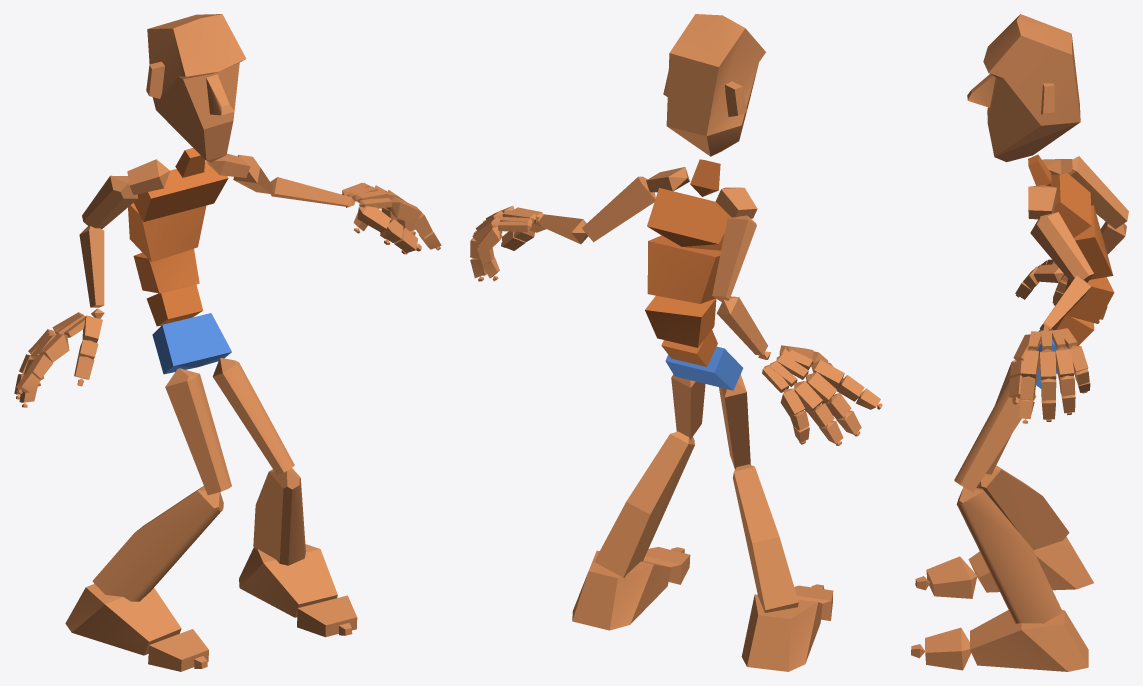
File: prueba118.obj
The picture shows the model from 3 angles, left to right: view 1: azimuth 30°, elevation 25°; view 2: azimuth 150°, elevation 25°; view 3: azimuth 270°, elevation 25°; orthographic projection. The views are drawn at different scales.
Parts seen in each view (by area): view 1: BOPED_Head, BOPED_R_leg, BOPED_R_foot, BOPED_R_foot01, BOPED_L_leg, BOPED_R_legup, Bone01, BOPED_L_legup, Bone04, Bone05, Bone03, BOPED_R_foot_toe01 (+9 smaller); view 2: BOPED_Head, BOPED_L_leg, BOPED_R_leg, BOPED_R_foot01, BOPED_R_foot, Bone04, Bone05, Bone03, BOPED_R_arm_upper, BOPED_L_arm_upper, BOPED_R_legup, Bone01 (+9 smaller); view 3: BOPED_Head, BOPED_L_leg, BOPED_R_foot01, BOPED_R_leg, BOPED_L_legup, BOPED_R_foot, BOPED_L_arm_upper, Bone05, BOPED_R_arm_upper, BOPED_R_foot_toe01, BOPED_R_foot_toe04, Bone04 (+14 smaller).
Boxes of the visible parts, x1,y1,x2,y2 form: BOPED_Head: (146, 14, 246, 162); BOPED_R_leg: (92, 486, 223, 601); BOPED_R_foot: (65, 583, 181, 655); BOPED_R_foot01: (239, 544, 337, 617); BOPED_L_leg: (253, 468, 305, 565); BOPED_R_legup: (165, 368, 231, 495); Bone01: (152, 313, 231, 374); BOPED_L_legup: (212, 358, 294, 474); Bone04: (128, 203, 206, 262); Bone05: (133, 161, 228, 221); Bone03: (133, 248, 199, 293); BOPED_R_foot_toe01: (148, 629, 208, 671); BOPED_Head: (663, 14, 765, 156); BOPED_L_leg: (594, 431, 694, 577); BOPED_R_leg: (733, 464, 798, 612); BOPED_R_foot01: (572, 550, 671, 630); BOPED_R_foot: (741, 594, 822, 671); Bone04: (647, 235, 720, 303); Bone05: (647, 188, 731, 250); Bone03: (645, 295, 716, 347); BOPED_R_arm_upper: (712, 215, 756, 301); BOPED_L_arm_upper: (582, 176, 655, 242); BOPED_R_legup: (719, 374, 750, 469); Bone01: (665, 346, 743, 390); BOPED_Head: (967, 14, 1080, 162); BOPED_L_leg: (956, 487, 1062, 623); BOPED_R_foot01: (970, 610, 1088, 671); BOPED_R_leg: (976, 465, 1069, 550); BOPED_L_legup: (954, 379, 1036, 492); BOPED_R_foot: (968, 536, 1093, 592); BOPED_L_arm_upper: (1030, 212, 1093, 282); Bone05: (1050, 173, 1091, 237); BOPED_R_arm_upper: (1068, 156, 1128, 229); BOPED_R_foot_toe01: (926, 556, 977, 598); BOPED_R_foot_toe04: (925, 627, 971, 670); Bone04: (1071, 205, 1113, 282).
Size of the model in its own units: 130 by 182 by 60.51.
